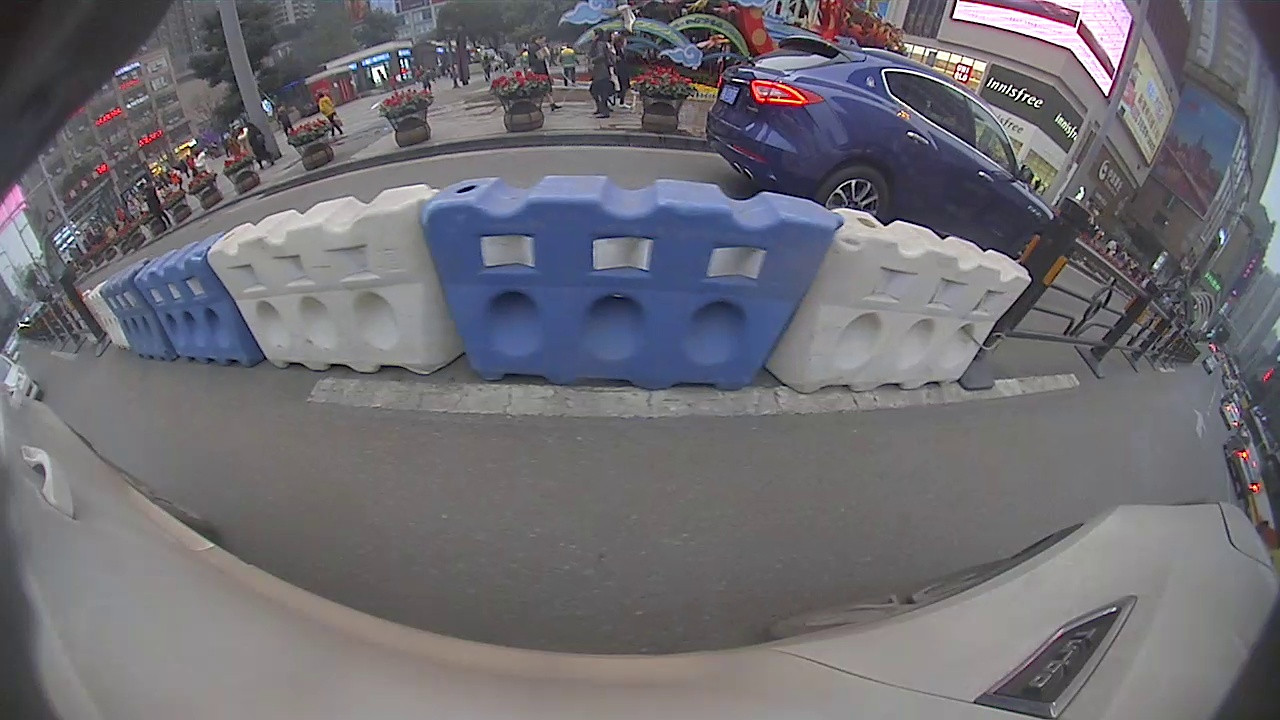car: (704, 33, 1052, 220), (1221, 434, 1262, 500)
person: (134, 182, 170, 233)
rear: (822, 169, 890, 219)
